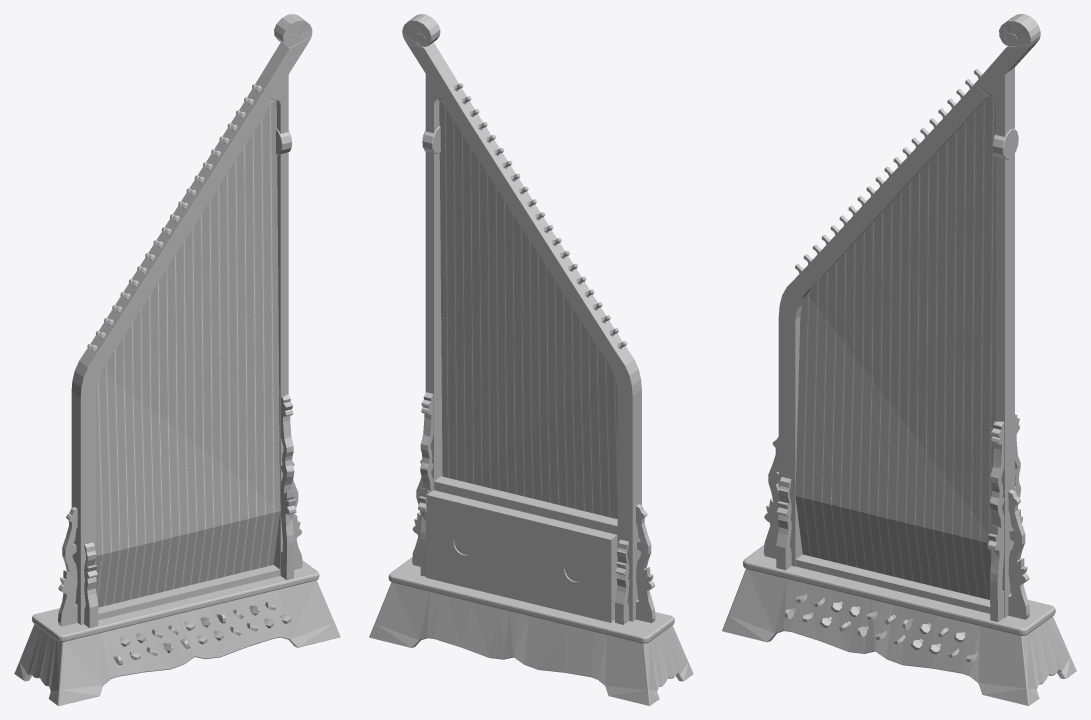
File: SM_KoreanHarp.FBX
3 views of the same model, side by side, from view 1: azimuth 30°, elevation 25°; view 2: azimuth 150°, elevation 25°; view 3: azimuth 330°, elevation 25° (orthographic). The views are drawn at different scales.
Parts seen in each view (by area): view 1: SM_KoreanHarp; view 2: SM_KoreanHarp; view 3: SM_KoreanHarp.
Boxes of the visible parts, x1,y1,x2,y2 form: SM_KoreanHarp: (14,14,340,705); SM_KoreanHarp: (369,14,693,705); SM_KoreanHarp: (722,14,1076,705).
Bounding box in the file's own units: 123 × 34.69 × 254.
